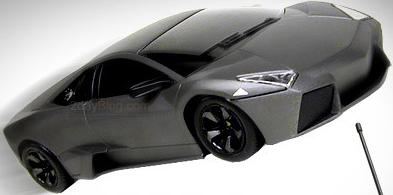front_view: (237, 2, 391, 122)
headlight: (231, 70, 298, 96)
side_glass: (51, 58, 179, 108)
